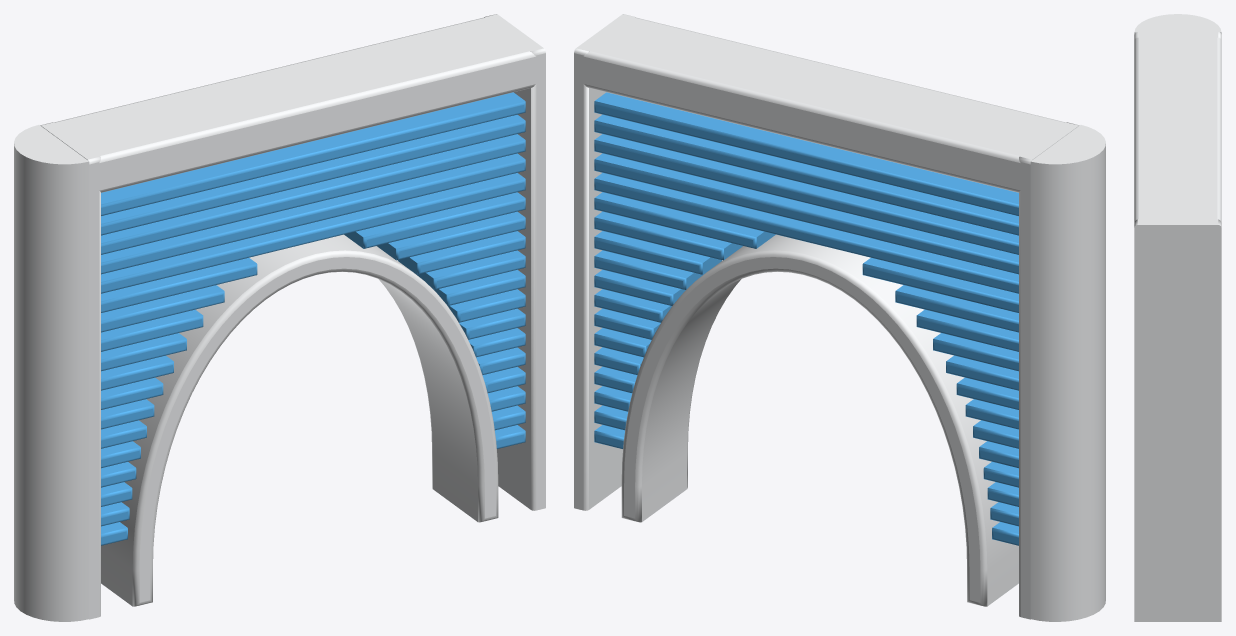
File: Arch_R2D05_LouveredGlass.fbx
3 renders of one model, left to right at view 1: azimuth 30°, elevation 25°; view 2: azimuth 150°, elevation 25°; view 3: azimuth 270°, elevation 25°, orthographic. The views are drawn at different scales.
Parts seen in each view (by area): view 1: Arch_R2D05_LouveredGlass; view 2: Arch_R2D05_LouveredGlass; view 3: Arch_R2D05_LouveredGlass.
Boxes of the visible parts, left/top/right/bottom form: Arch_R2D05_LouveredGlass: left=14, top=14, right=545, bottom=621; Arch_R2D05_LouveredGlass: left=574, top=14, right=1105, bottom=621; Arch_R2D05_LouveredGlass: left=1134, top=14, right=1221, bottom=621.
Bounding box in the file's own units: 2.29 × 2.01 × 0.4.
